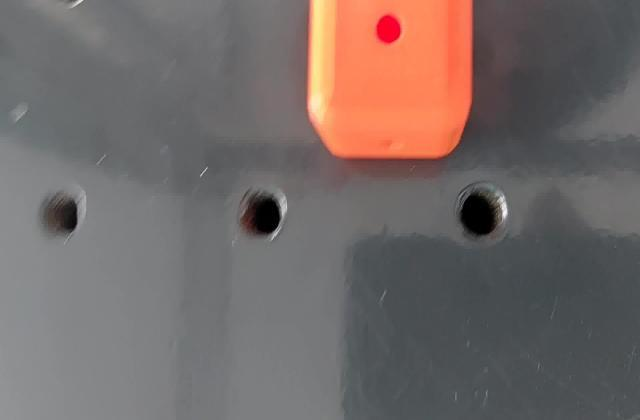cube: (304, 0, 476, 166)
